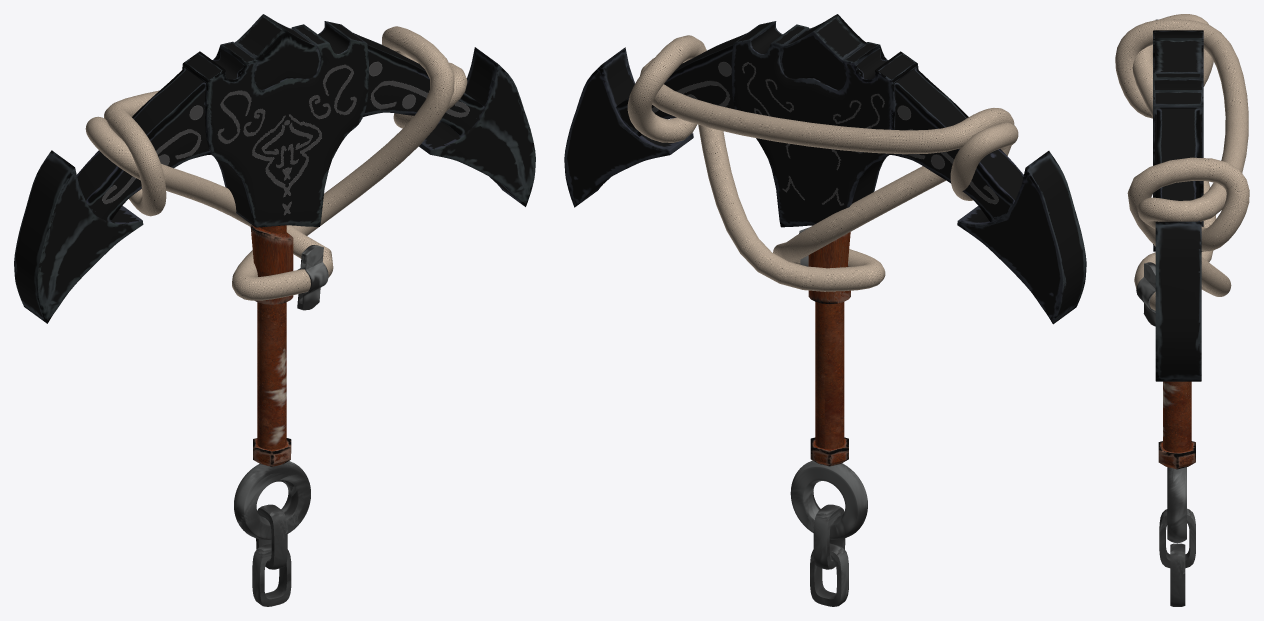
The model's file is anchor.gltf.
3 renders of one model, left to right at view 1: azimuth 30°, elevation 25°; view 2: azimuth 150°, elevation 25°; view 3: azimuth 270°, elevation 25°, orthographic. The views are drawn at different scales.
Parts seen in each view (by area): view 1: M_CuerpoAncla_T_AnclaBase_0, M_Cuerda_T_Cuerda_0, M_DetalleEInferior_T_MetalOscuro_0, M_Mango_T_Oxido_0; view 2: M_CuerpoAncla_T_AnclaBase_0, M_Cuerda_T_Cuerda_0, M_Mango_T_Oxido_0, M_DetalleEInferior_T_MetalOscuro_0; view 3: M_Cuerda_T_Cuerda_0, M_CuerpoAncla_T_AnclaBase_0, M_DetalleEInferior_T_MetalOscuro_0, M_Mango_T_Oxido_0.
Part boxes in pixels (x1,y1,x2,y2): M_CuerpoAncla_T_AnclaBase_0: (14, 14, 535, 323); M_Cuerda_T_Cuerda_0: (85, 26, 467, 300); M_DetalleEInferior_T_MetalOscuro_0: (234, 245, 328, 606); M_Mango_T_Oxido_0: (250, 225, 293, 466); M_CuerpoAncla_T_AnclaBase_0: (564, 14, 1086, 324); M_Cuerda_T_Cuerda_0: (627, 35, 1018, 291); M_Mango_T_Oxido_0: (808, 232, 850, 466); M_DetalleEInferior_T_MetalOscuro_0: (790, 227, 867, 606); M_Cuerda_T_Cuerda_0: (1115, 14, 1249, 310); M_CuerpoAncla_T_AnclaBase_0: (1153, 19, 1203, 381); M_DetalleEInferior_T_MetalOscuro_0: (1136, 262, 1195, 606); M_Mango_T_Oxido_0: (1158, 381, 1195, 469).
Size of the model in its own units: 1.48 by 1.65 by 0.3552.
4 materials, 4 textured.
